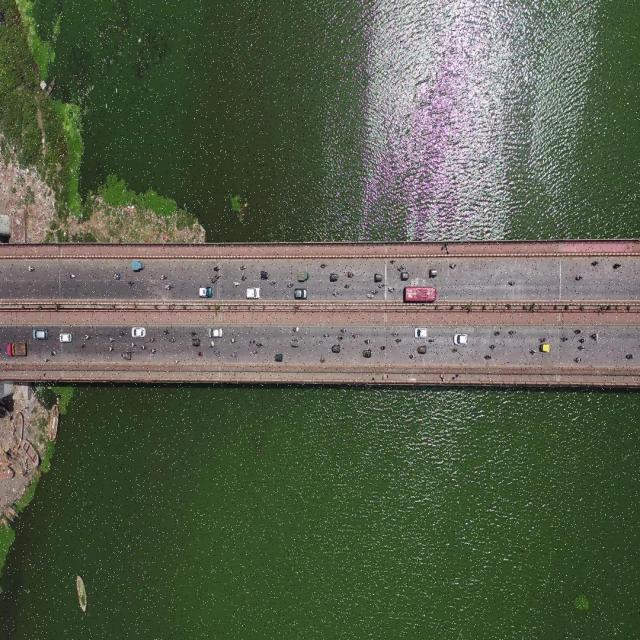3W: (122, 344, 136, 366), (273, 346, 284, 365), (362, 346, 374, 360), (329, 270, 341, 283), (428, 267, 441, 279), (398, 270, 411, 282), (260, 269, 271, 282), (290, 334, 300, 348), (331, 344, 343, 355), (374, 272, 385, 284), (417, 344, 428, 356), (192, 336, 202, 349), (540, 344, 552, 353)
Bus: (401, 284, 436, 301)
Cars: (31, 325, 50, 342), (294, 286, 310, 304), (245, 284, 261, 300), (57, 331, 75, 345), (206, 325, 223, 339), (414, 325, 428, 341), (198, 286, 213, 300), (453, 334, 469, 346), (132, 324, 146, 337)
M2W: (318, 350, 330, 370), (486, 341, 503, 353), (588, 256, 600, 272), (574, 273, 587, 286), (624, 348, 635, 363), (450, 342, 460, 358), (527, 346, 540, 358), (611, 261, 625, 272), (80, 339, 90, 353), (48, 345, 58, 358), (231, 275, 240, 289), (390, 325, 401, 336), (507, 277, 518, 288), (286, 280, 296, 292), (506, 324, 516, 336), (112, 269, 121, 282), (66, 271, 77, 281), (291, 324, 302, 334), (268, 277, 278, 288), (588, 330, 599, 340), (26, 264, 38, 273), (194, 350, 207, 358), (228, 352, 238, 362), (484, 350, 494, 360), (124, 279, 134, 288), (343, 282, 352, 292), (333, 290, 343, 299), (388, 286, 398, 295), (492, 328, 501, 338), (318, 262, 329, 270), (85, 332, 94, 341), (363, 338, 372, 347), (165, 281, 173, 291), (213, 347, 221, 357), (346, 270, 356, 278), (394, 336, 404, 344), (578, 336, 588, 344), (109, 332, 115, 344), (229, 336, 238, 344), (339, 328, 348, 336), (350, 331, 359, 339), (378, 342, 386, 351), (368, 291, 377, 299), (241, 273, 248, 283), (537, 335, 547, 342), (428, 335, 434, 346), (149, 346, 158, 353), (163, 325, 170, 334), (210, 276, 217, 285), (255, 340, 264, 347), (573, 357, 582, 364), (168, 337, 178, 343), (252, 347, 258, 357), (372, 285, 378, 295), (563, 333, 569, 343), (572, 326, 582, 332), (576, 346, 588, 351), (120, 329, 128, 336), (249, 339, 256, 347), (408, 352, 415, 360), (108, 343, 114, 352), (209, 339, 215, 348), (160, 273, 167, 280), (149, 336, 156, 343), (240, 263, 247, 270), (322, 332, 329, 339), (335, 335, 342, 342), (397, 265, 404, 272), (450, 262, 457, 269), (140, 344, 146, 352), (130, 340, 136, 347), (213, 265, 220, 271), (188, 331, 198, 335), (388, 258, 395, 263), (378, 283, 384, 288)
Truck: (4, 340, 30, 360), (130, 253, 146, 273), (298, 267, 310, 284)
